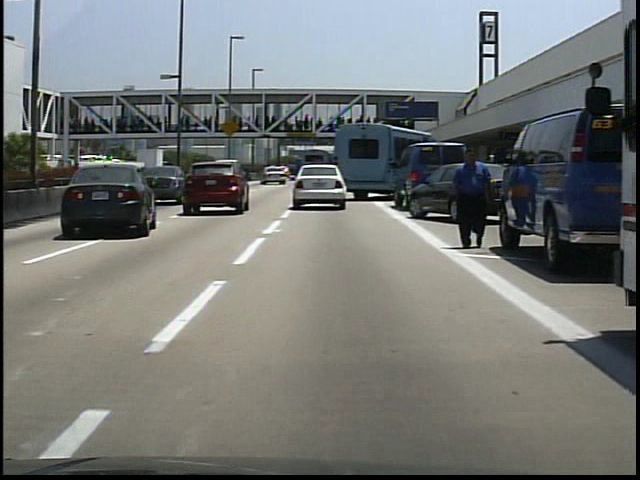person: (447, 147, 496, 250)
